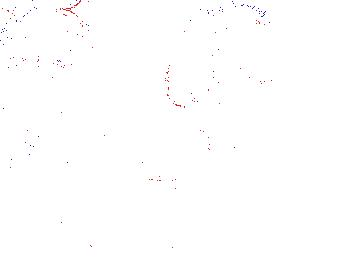moon jellyfish: (165, 6, 268, 108), (1, 7, 100, 61), (119, 125, 211, 181), (1, 86, 35, 171)
